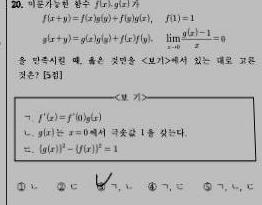choice: (94, 174, 107, 192)
not-choice: (14, 180, 26, 192), (55, 181, 67, 192), (202, 180, 213, 192), (146, 181, 157, 192)
